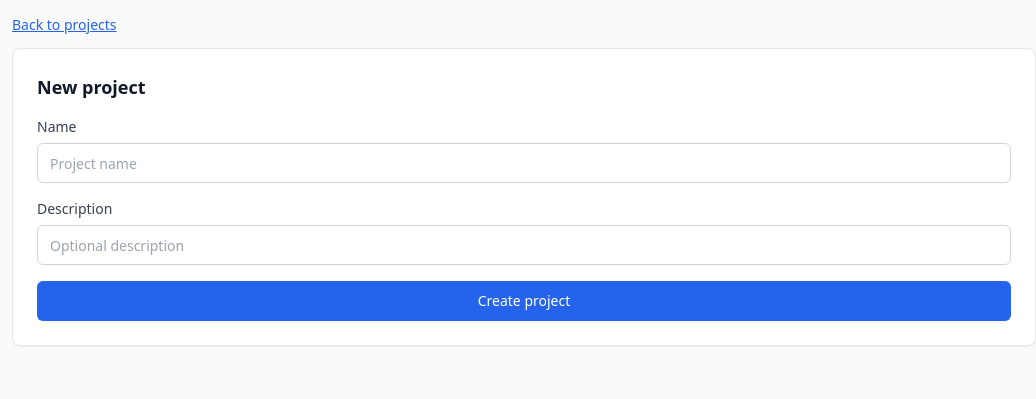
Test case: Project create/edit validation + delete confirmation (behavior) › create maps server 422 to the name field (behavior)
Type "Alpha Project" into the field labelled "Name" at [524, 163], box [37,143,1011,183]
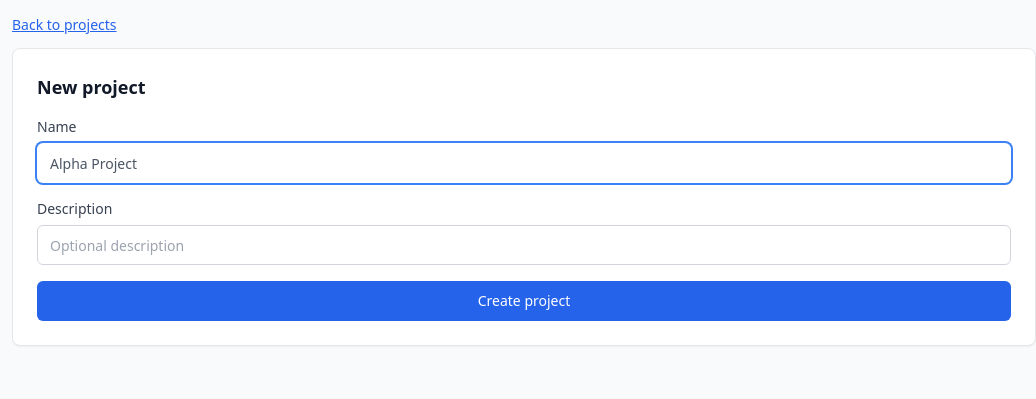
Click the button "Create project" at [524, 301], box [37,281,1011,321]
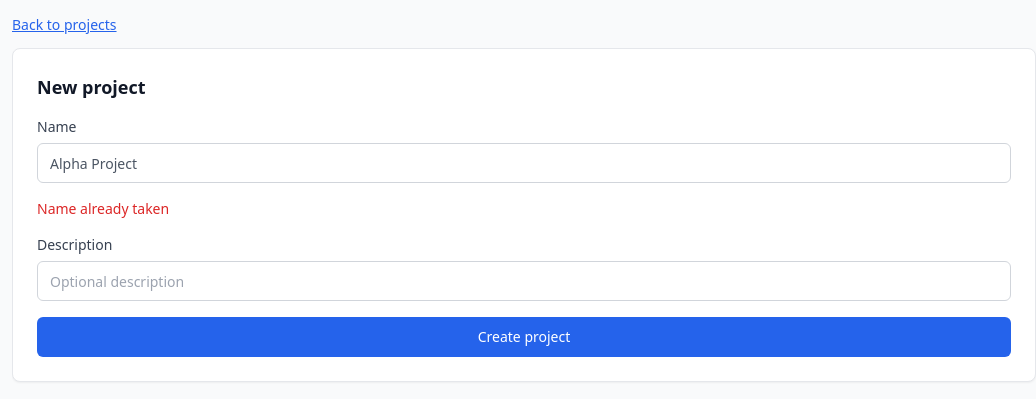
Result: the text "Name already taken" is shown at [37,199,169,218]
